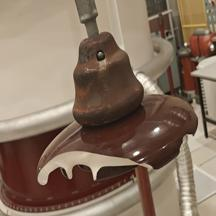insulator: (31, 29, 203, 191)
